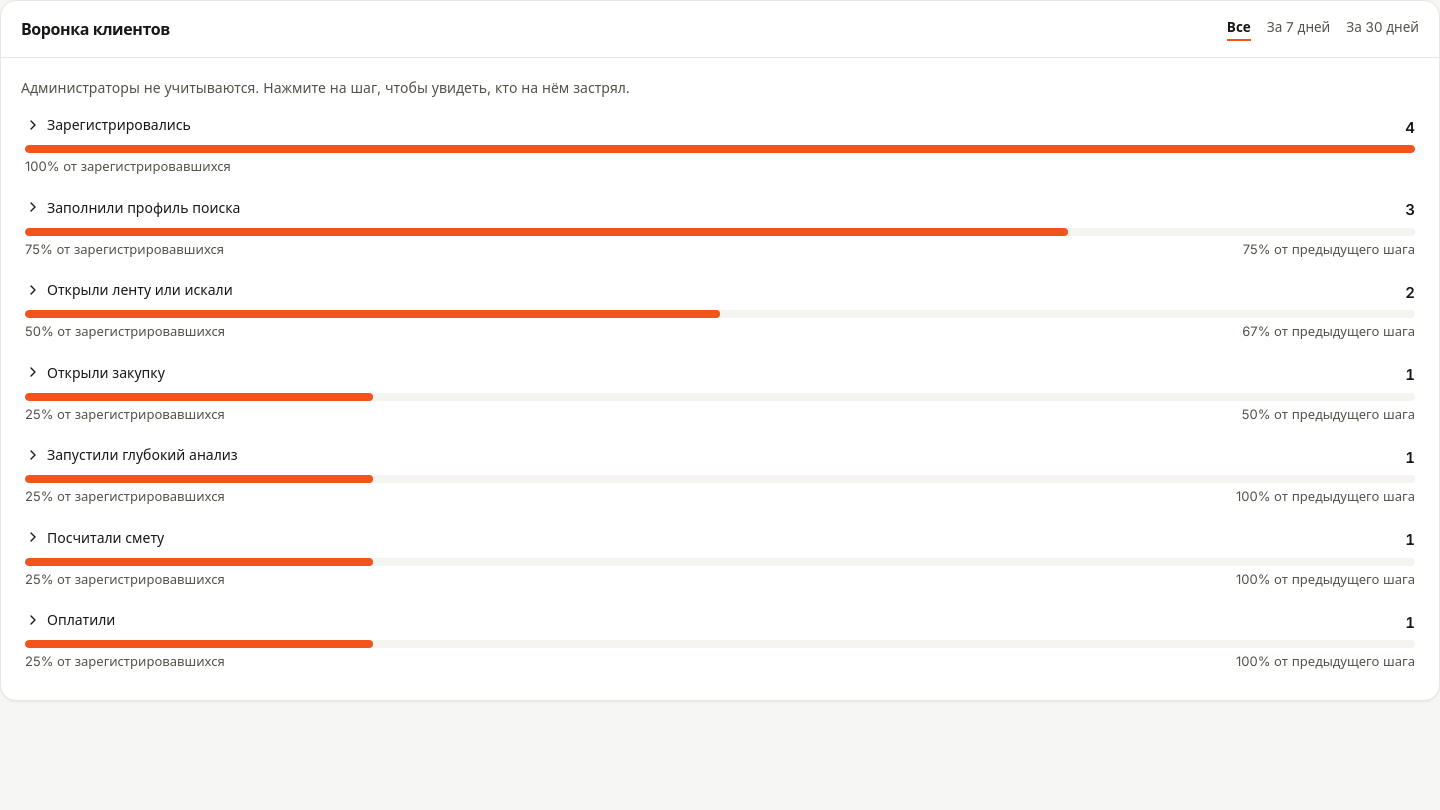
AdminFunnel › шаг, на котором никто не застрял, говорит об этом
Click the button that starts with "Открыли закупку" at (720, 393), box [21,354,1419,432]
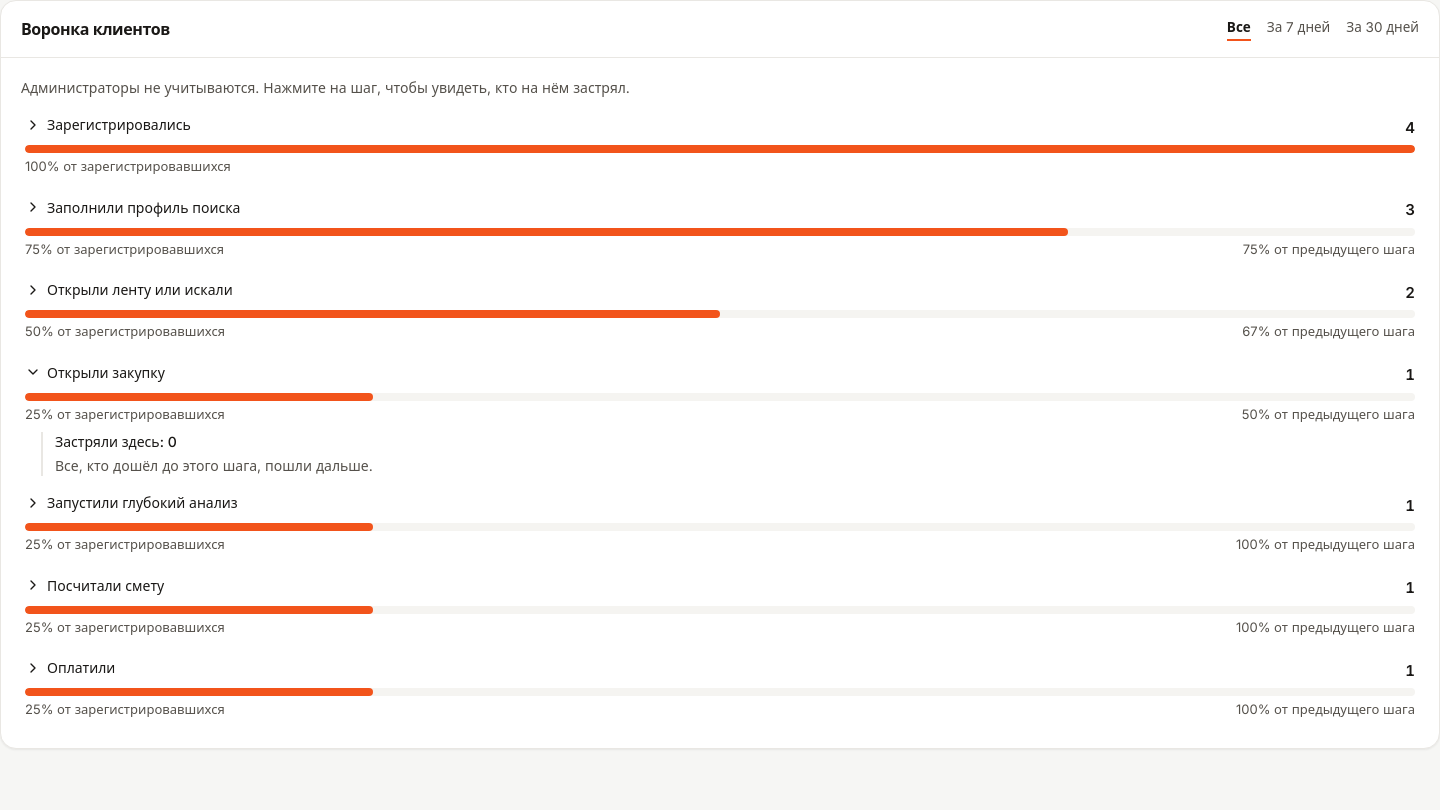
Now the text "Все, кто дошёл до этого шага, пошли дальше." is shown, box [55,457,373,474]
